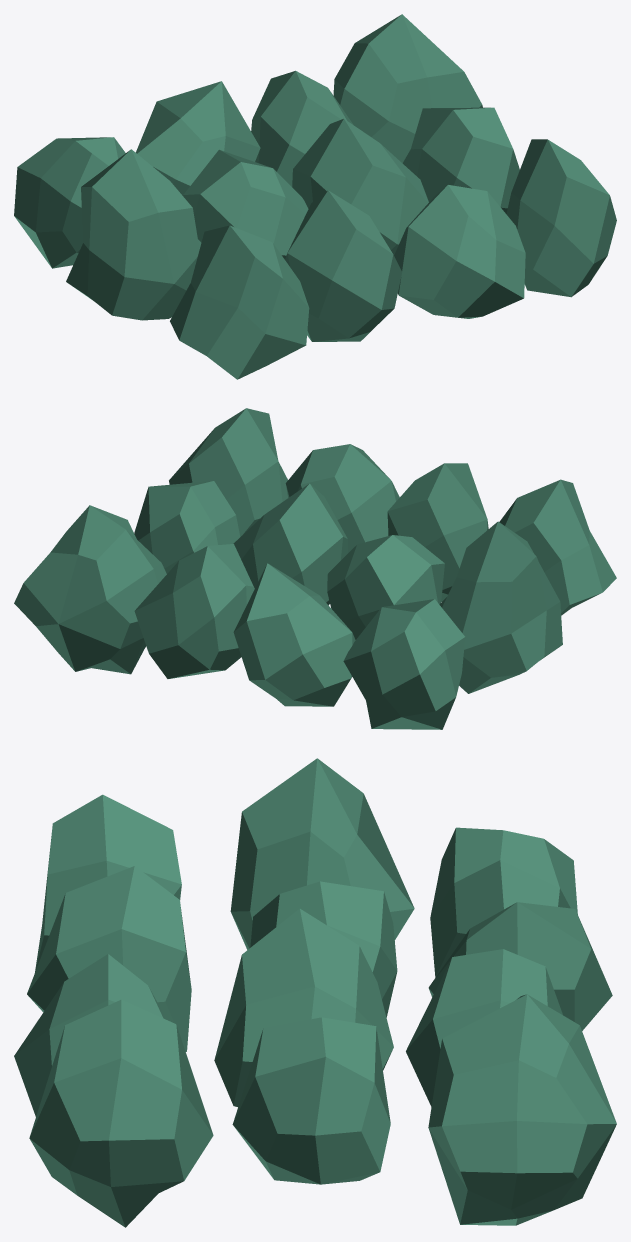
File: Straw-2.fbx
The picture shows the model from 3 angles, top to bottom: view 1: azimuth 30°, elevation 25°; view 2: azimuth 150°, elevation 25°; view 3: azimuth 270°, elevation 25°; orthographic projection. The views are drawn at different scales.
Visible parts, largest first — view 1: Straw-2; view 2: Straw-2; view 3: Straw-2.
Part boxes in pixels (x1,y1,x2,y2): Straw-2: (14, 14, 616, 379); Straw-2: (14, 408, 616, 729); Straw-2: (14, 758, 616, 1227).
Size of the model in its own units: 78.99 by 30.3 by 68.33.
